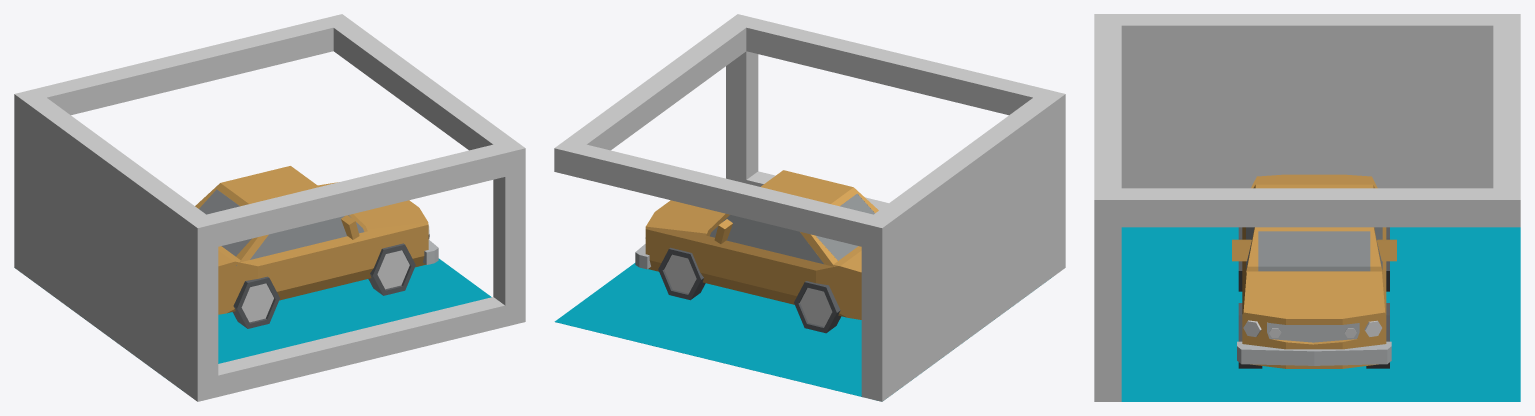
The model's file is garage.glb.
3 views of the same model, side by side, from view 1: azimuth 30°, elevation 25°; view 2: azimuth 150°, elevation 25°; view 3: azimuth 270°, elevation 25° (orthographic). The views are drawn at different scales.
Visible parts, largest first — view 1: Mesh_Mesh_head_geo.001_lambert2SG.001; view 2: Mesh_Mesh_head_geo.001_lambert2SG.001; view 3: Mesh_Mesh_head_geo.001_lambert2SG.001.
Part boxes in pixels (x1=…): Mesh_Mesh_head_geo.001_lambert2SG.001: x1=14, y1=14, x2=525, y2=401; Mesh_Mesh_head_geo.001_lambert2SG.001: x1=554, y1=14, x2=1065, y2=401; Mesh_Mesh_head_geo.001_lambert2SG.001: x1=1094, y1=14, x2=1520, y2=401.
Size of the model in its own units: 0.32 by 0.162 by 0.31.
